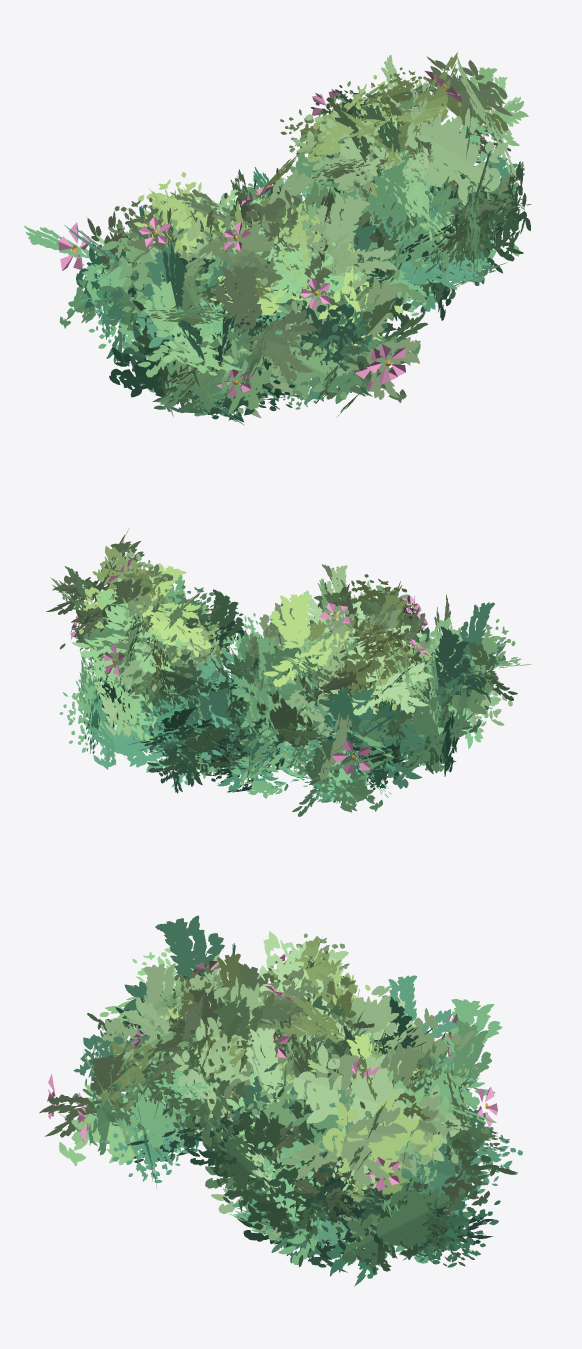
The model's file is Bush_03_Round_Flower_Pink.glb.
3 views of the same model, one above another, from view 1: azimuth 30°, elevation 25°; view 2: azimuth 150°, elevation 25°; view 3: azimuth 270°, elevation 25° (orthographic). The views are drawn at different scales.
Visible parts, largest first — view 1: Bush_03_Round_Flower_Pink; view 2: Bush_03_Round_Flower_Pink; view 3: Bush_03_Round_Flower_Pink.
Boxes of the visible parts, x1,y1,x2,y2 form: Bush_03_Round_Flower_Pink: (24, 52, 531, 425); Bush_03_Round_Flower_Pink: (46, 529, 531, 816); Bush_03_Round_Flower_Pink: (39, 915, 522, 1286).
Size of the model in its own units: 2.31 by 1.27 by 2.03.
Materials: 8 (6 with a texture image).
